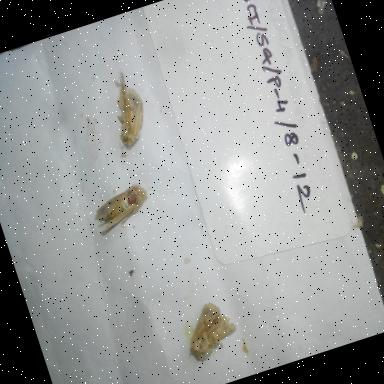abw: (91, 60, 159, 158), (170, 290, 244, 368), (82, 174, 158, 240)
